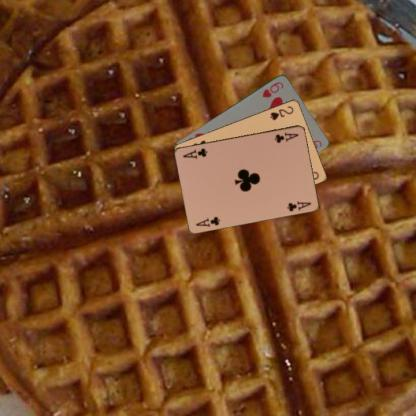2s: (268, 103, 295, 121)
6h: (259, 79, 285, 99)
Ac: (272, 129, 300, 144), (193, 214, 221, 228)
